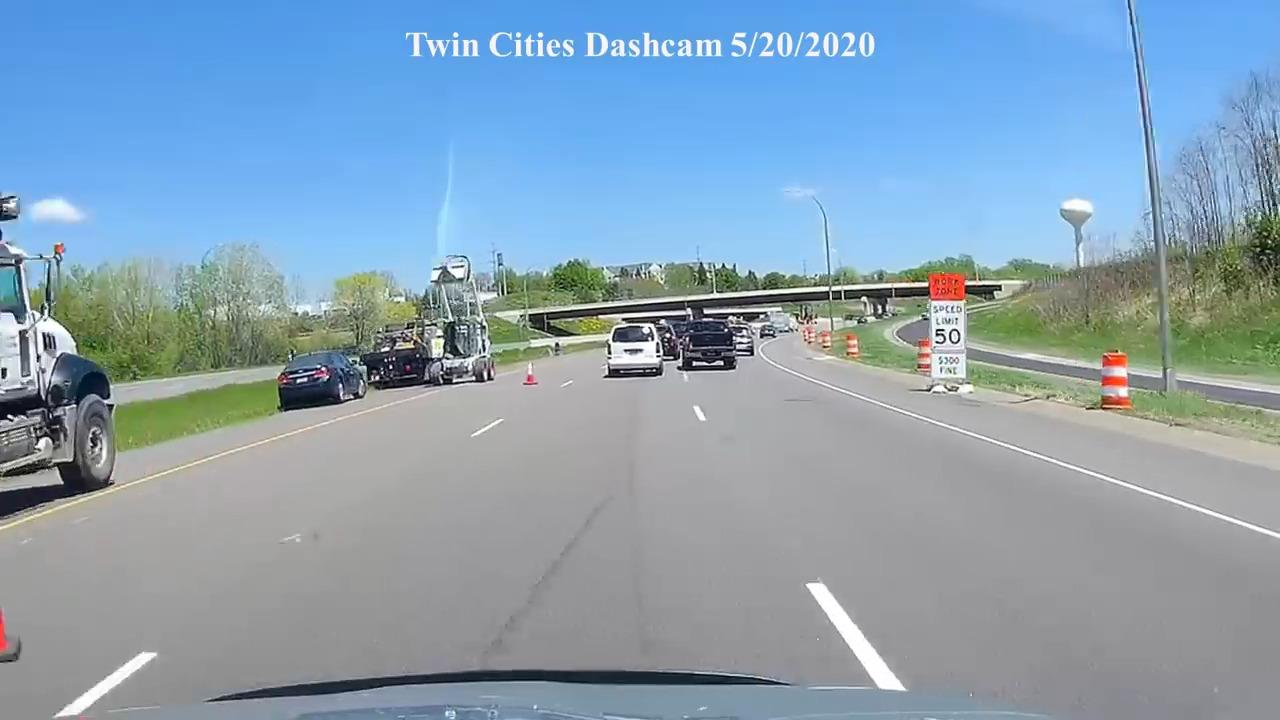car: (276, 349, 369, 411)
traffic cone: (1100, 353, 1134, 409), (522, 362, 539, 386), (845, 333, 859, 359)
